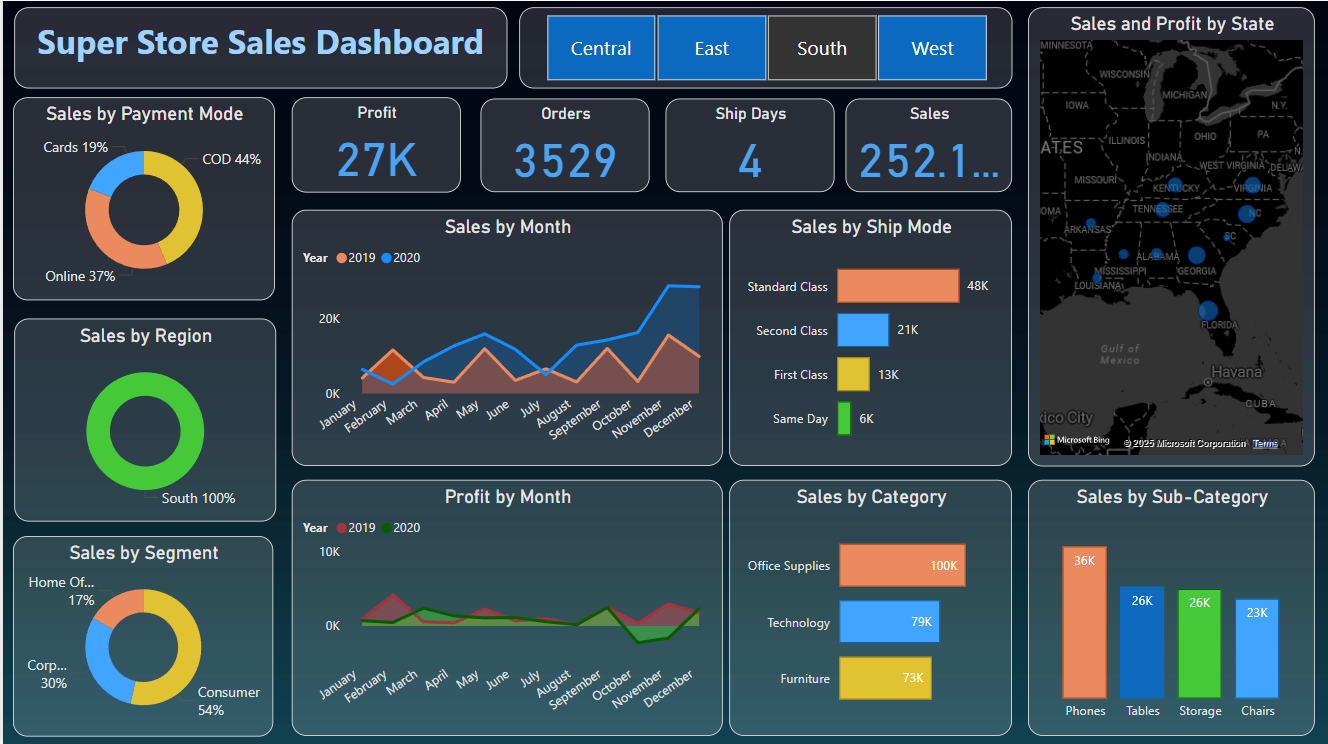

This screenshot's page, from the dashboard's own definition file:
{"tool":"powerbi","page":{"name":"Page 1","canvas":[1280,720],"ordinal":0},"visuals":[{"type":"clusteredBarChart","title":"Sales by Category","fields":{"Category":["Sheet1.Category"],"Y":["Sum(Sheet1.Sales)"]},"box":[701.2,462.4,273.1,247],"z":0},{"type":"clusteredColumnChart","title":"Sales by Sub-Category","fields":{"Category":["Sheet1.Sub-Category"],"Y":["Sum(Sheet1.Sales)"]},"box":[989.4,462.4,277.2,247],"z":1000},{"type":"clusteredBarChart","title":"Sales by Ship Mode","fields":{"Category":["Sheet1.Ship Mode"],"Y":["Sum(Sheet1.Sales)"]},"box":[701.2,201.7,273.1,247],"z":2000},{"type":"areaChart","title":"Sales by Month","fields":{"Series":["Sheet1.Order Date.Variation.Date Hierarchy.Year"],"Category":["Sheet1.Order Date.Variation.Date Hierarchy.Month","Sheet1.Order Date.Variation.Date Hierarchy.Day"],"Y":["Sum(Sheet1.Sales)"]},"box":[278.6,201.7,415.8,247],"z":3000},{"type":"areaChart","title":"Profit by Month ","fields":{"Category":["Sheet1.Order Date.Variation.Date Hierarchy.Month","Sheet1.Order Date.Variation.Date Hierarchy.Day"],"Y":["Sum(Sheet1.Profit)"],"Series":["Sheet1.Order Date.Variation.Date Hierarchy.Year"]},"box":[278.6,462.4,415.8,247],"z":4000},{"type":"map","title":"Sales and Profit by State","fields":{"Category":["Sheet1.State"],"Size":["Sum(Sheet1.Sales)"]},"box":[989.4,5.5,277.2,443.2],"z":5000},{"type":"donutChart","title":"Sales by Segment","fields":{"Category":["Sheet1.Segment"],"Y":["Sum(Sheet1.Sales)"]},"box":[9.6,516,251.1,193.5],"z":6000},{"type":"donutChart","title":"Sales by Payment Mode","fields":{"Category":["Sheet1.Payment Mode"],"Y":["Sum(Sheet1.Sales)"]},"box":[9.6,93.3,252.5,196.2],"z":7000},{"type":"donutChart","title":"Sales by Region","fields":{"Category":["Sheet1.Region"],"Y":["Sum(Sheet1.Sales)"]},"box":[11,306,252.5,196.2],"z":8000},{"type":"slicer","fields":{"Values":["Sheet1.Region"]},"box":[498.1,5.5,476.2,78.2],"z":9000},{"type":"textbox","box":[11,5.5,476.2,78.2],"z":10000},{"type":"card","title":"Sales","fields":{"Values":["Sum(Sheet1.Sales)"]},"box":[813.7,94.7,160.5,90.6],"z":11000},{"type":"card","title":"Orders","fields":{"Values":["Sum(Sheet1.Quantity)"]},"box":[461.1,94.7,163.3,90.6],"z":12000},{"type":"card","title":"Profit","fields":{"Values":["Sum(Sheet1.Profit)"]},"box":[278.6,93.3,163.3,91.9],"z":13000},{"type":"card","title":"Ship Days","fields":{"Values":["Avg(Sheet1.AvgDelivery)"]},"box":[639.5,94.7,163.3,90.6],"z":14000}]}

Visuals, with their boxes in screenshot pixels (x1, y1, x2, y2), scaled from the page's 1280x720 canvas onto the 1328x744 screenshot:
"Sales by Category" clusteredBarChart: <region>727, 478, 1011, 733</region>
"Sales by Sub-Category" clusteredColumnChart: <region>1027, 478, 1314, 733</region>
"Sales by Ship Mode" clusteredBarChart: <region>727, 208, 1011, 464</region>
"Sales by Month" areaChart: <region>289, 208, 720, 464</region>
"Profit by Month " areaChart: <region>289, 478, 720, 733</region>
"Sales and Profit by State" map: <region>1027, 6, 1314, 464</region>
"Sales by Segment" donutChart: <region>10, 533, 270, 733</region>
"Sales by Payment Mode" donutChart: <region>10, 96, 272, 299</region>
"Sales by Region" donutChart: <region>11, 316, 273, 519</region>
slicer - Sheet1.Region: <region>517, 6, 1011, 86</region>
textbox: <region>11, 6, 505, 86</region>
"Sales" card: <region>844, 98, 1011, 191</region>
"Orders" card: <region>478, 98, 648, 191</region>
"Profit" card: <region>289, 96, 458, 191</region>
"Ship Days" card: <region>663, 98, 833, 191</region>
